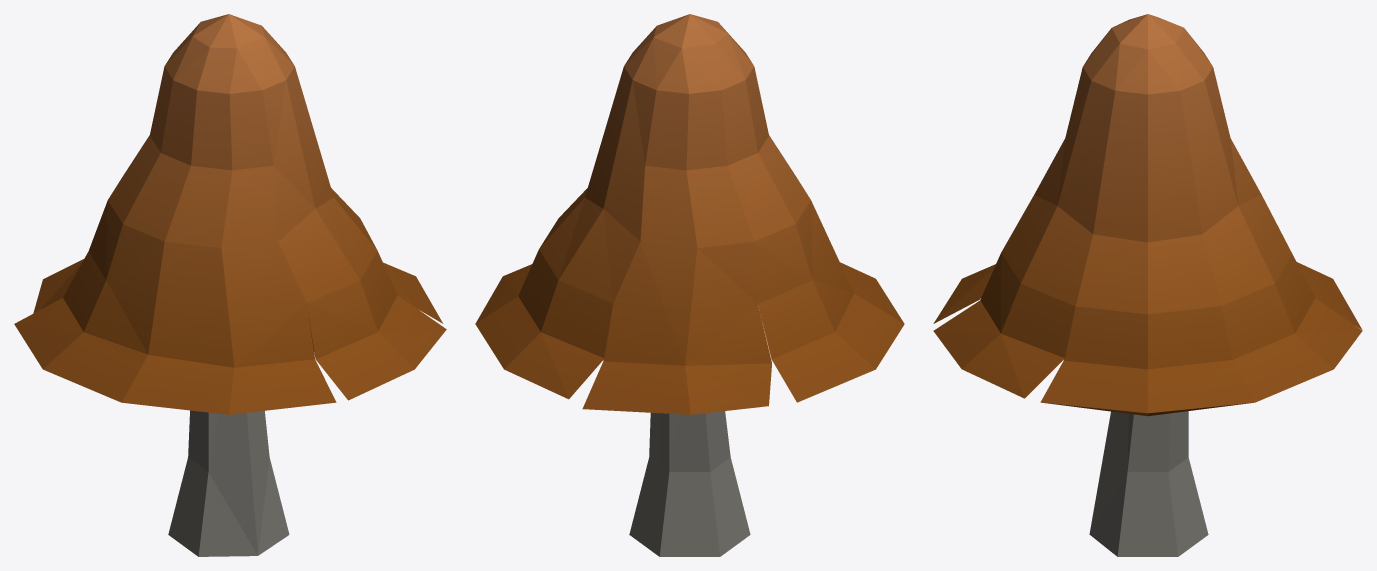
The model's file is Mushroom_01.fbx.
The picture shows the model from 3 angles, left to right: view 1: azimuth 30°, elevation 25°; view 2: azimuth 150°, elevation 25°; view 3: azimuth 270°, elevation 25°; orthographic projection.
Visible parts, largest first — view 1: Mushroom_01; view 2: Mushroom_01; view 3: Mushroom_01.
Part boxes in pixels (box(x1,y1,x2,y2)): Mushroom_01: box(14, 14, 446, 556); Mushroom_01: box(475, 14, 904, 556); Mushroom_01: box(933, 14, 1362, 556).
Bounding box in the file's own units: 0.4309 × 0.5747 × 0.4297.
